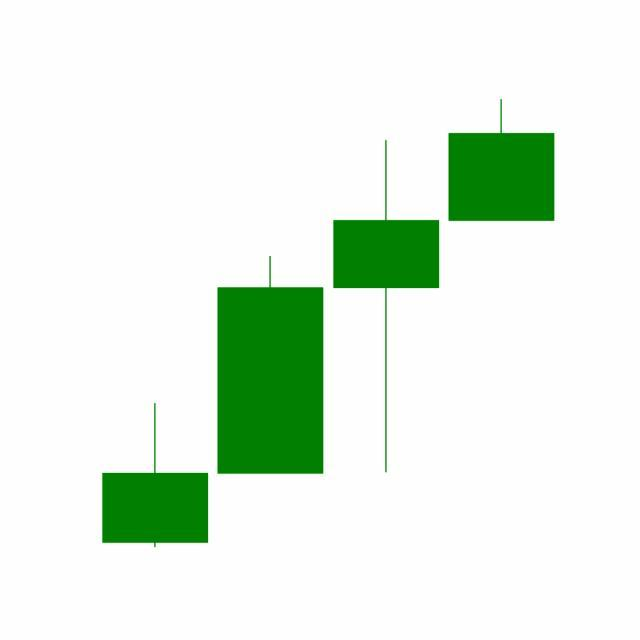Spinning Top: (329, 137, 445, 477)
